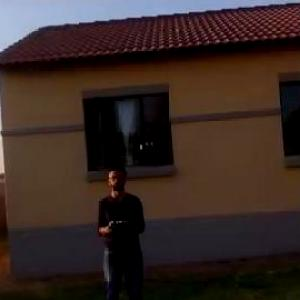follow: (94, 155, 154, 299)
